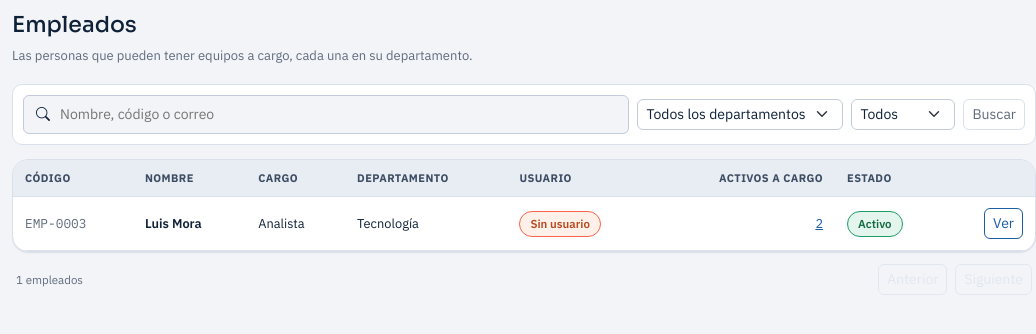
Test case: Empleados › vacío por los filtros lo distingue y los limpia, búsqueda incluida
Expected: the text "Luis Mora" is shown, left=133, top=197, right=246, bottom=251
In the search field named "Buscar empleados": (337, 114) left=58, top=103, right=616, bottom=126, type "zzz"
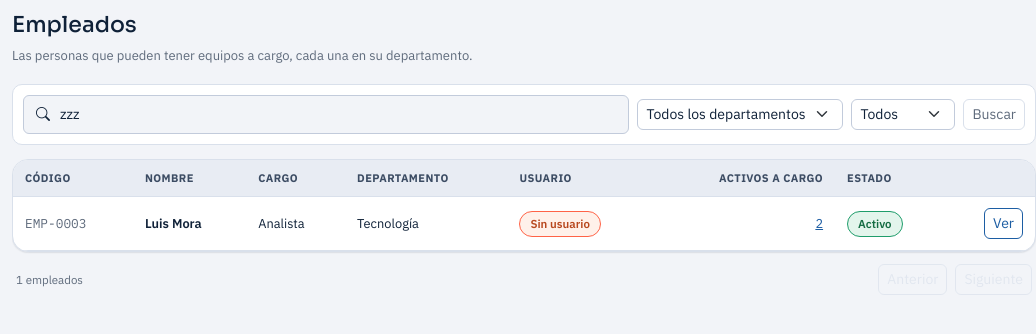
Submit the form named "Buscar empleados", box left=12, top=84, right=1035, bottom=145
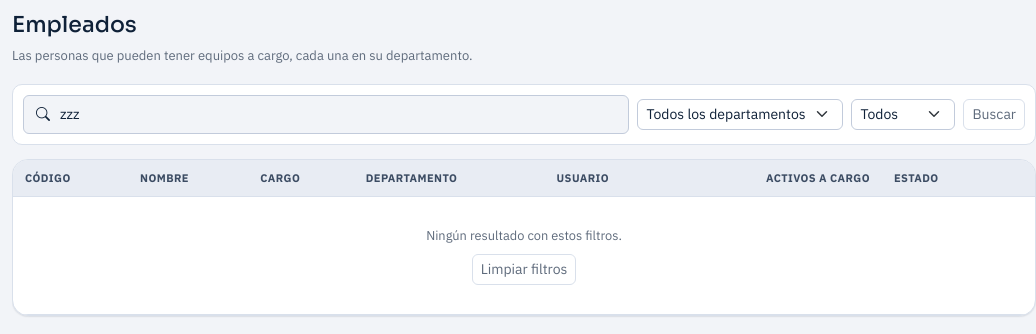
Now the text "Ningún resultado con estos filtros." is shown, box left=426, top=227, right=622, bottom=244
Click the button "Limpiar filtros": (524, 269) left=472, top=254, right=576, bottom=285
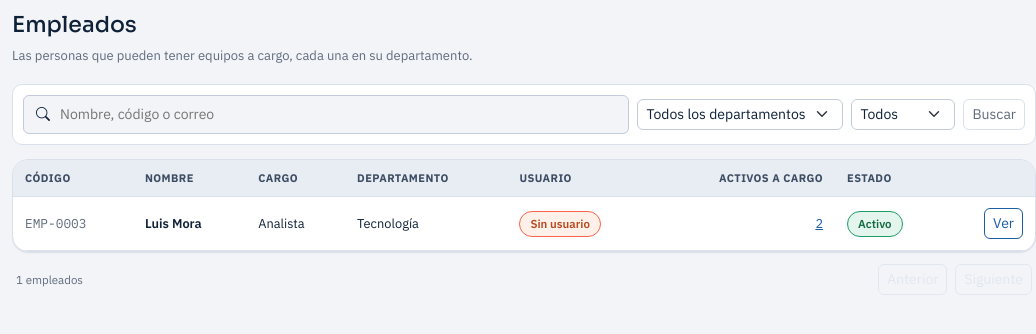
Now the text "Luis Mora" is shown, box left=133, top=197, right=246, bottom=251
Now the search field named "Buscar empleados" is empty, box left=58, top=103, right=616, bottom=126
